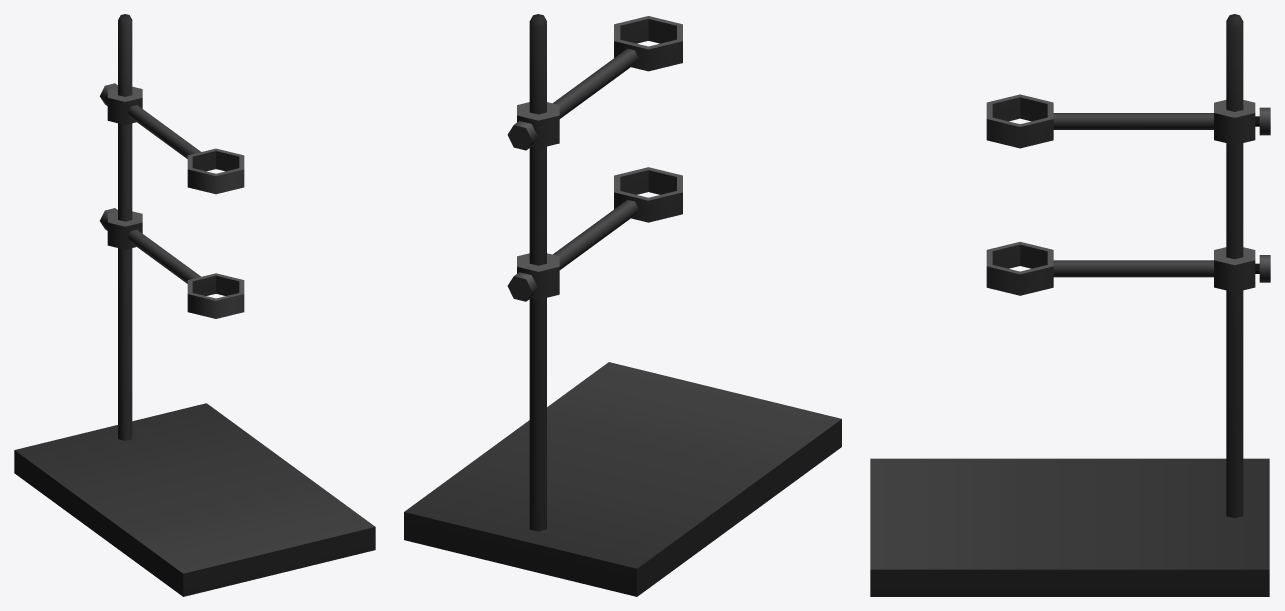
The model's file is CR_sci_Cylinder_004.FBX.
The picture shows the model from 3 angles, left to right: view 1: azimuth 30°, elevation 25°; view 2: azimuth 150°, elevation 25°; view 3: azimuth 270°, elevation 25°; orthographic projection. The views are drawn at different scales.
Visible parts, largest first — view 1: CR_sci_Cylinder_004; view 2: CR_sci_Cylinder_004; view 3: CR_sci_Cylinder_004.
Part boxes in pixels (<box>): CR_sci_Cylinder_004: <box>14,14,375,596</box>; CR_sci_Cylinder_004: <box>404,14,841,596</box>; CR_sci_Cylinder_004: <box>870,14,1270,596</box>.
Bounding box in the file's own units: 9.14 × 20.19 × 13.96.
